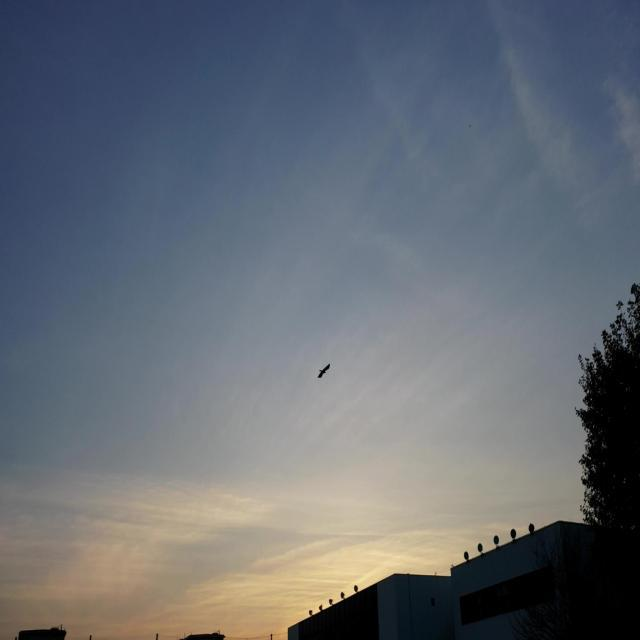Birds: (316, 362, 332, 382)
